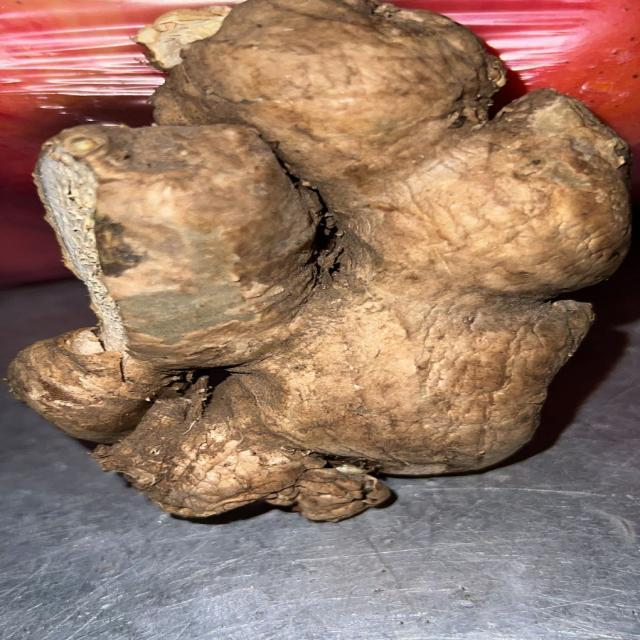ginger: (39, 16, 597, 504)
